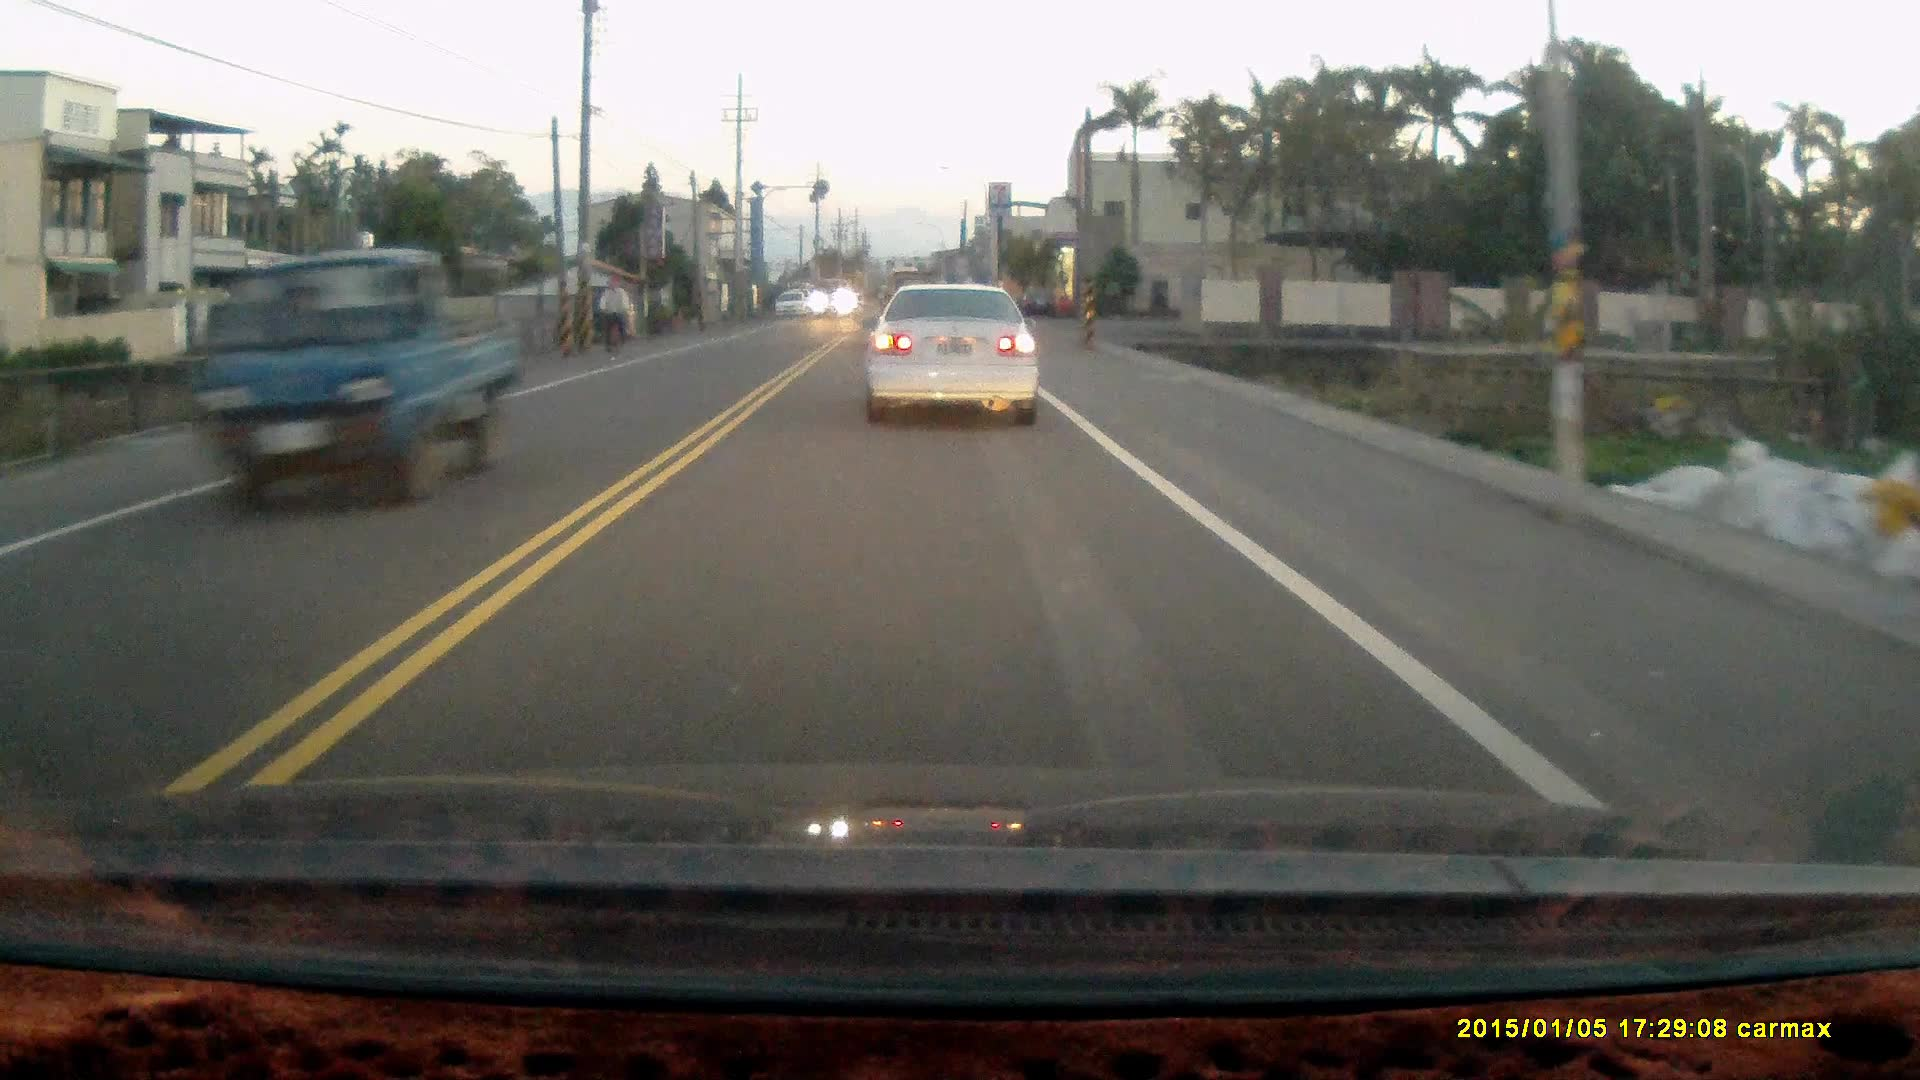rider: (596, 273, 630, 362)
vehicle: (180, 251, 518, 503), (865, 285, 1042, 426), (809, 279, 853, 322), (1020, 282, 1059, 314), (775, 293, 810, 321)
